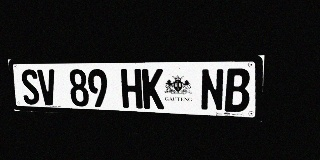8: (68, 69, 89, 107)
9: (87, 69, 109, 107)
B: (224, 68, 250, 112)
H: (120, 69, 142, 108)
K: (142, 69, 164, 109)
N: (200, 68, 224, 111)
S: (20, 69, 40, 105)
V: (37, 69, 58, 105)
